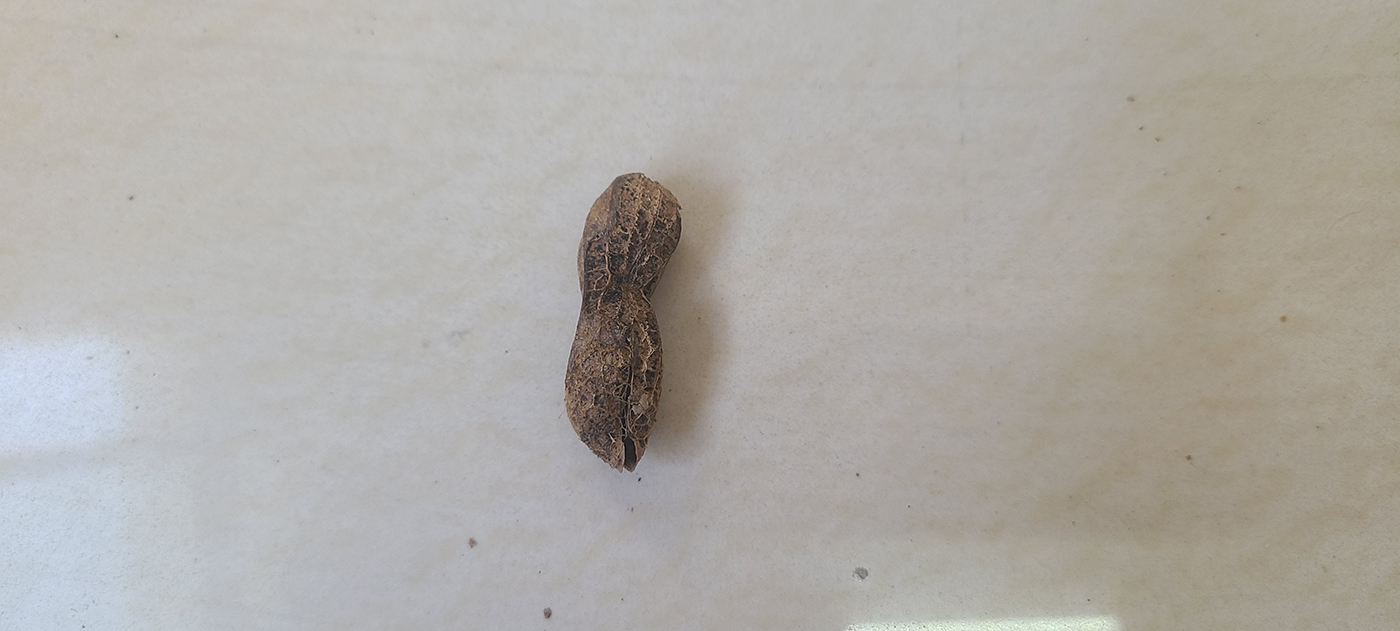l: (563, 172, 684, 477)
